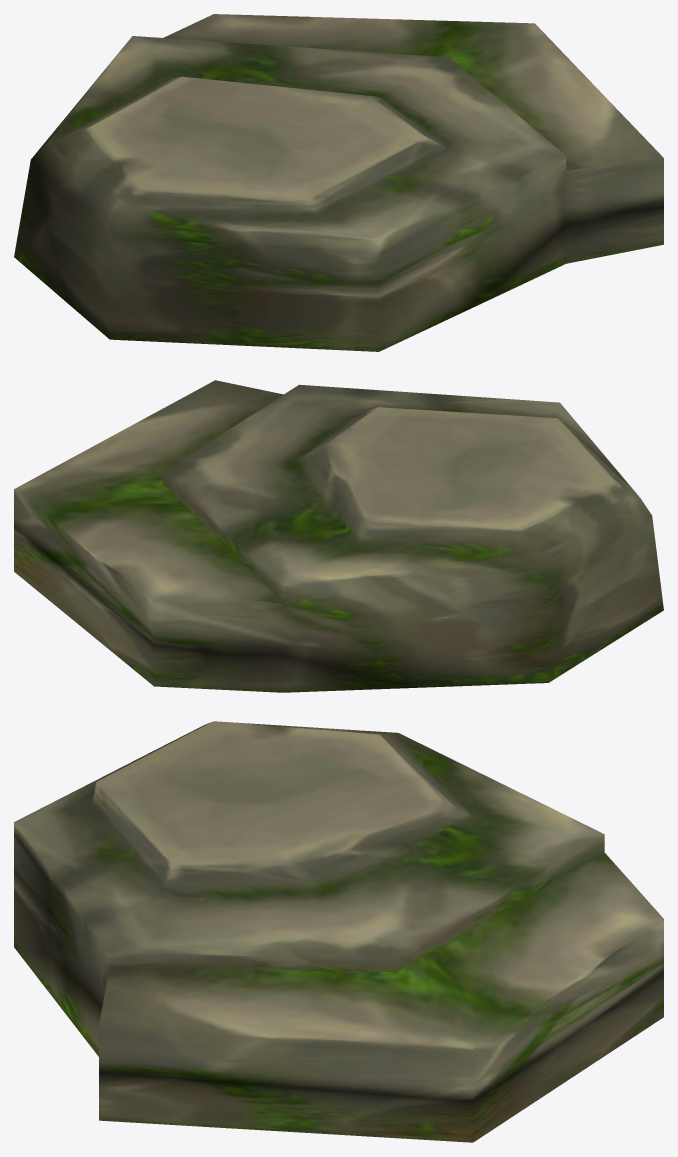
The model's file is RockFormation_4_5 (13).fbx.
3 renders of one model, top to bottom at view 1: azimuth 30°, elevation 25°; view 2: azimuth 150°, elevation 25°; view 3: azimuth 270°, elevation 25°, orthographic. The views are drawn at different scales.
Visible parts, largest first — view 1: RockFormation_4_5 (13); view 2: RockFormation_4_5 (13); view 3: RockFormation_4_5 (13).
Part boxes in pixels (x1,y1,x2,y2): RockFormation_4_5 (13): [14, 14, 663, 351]; RockFormation_4_5 (13): [14, 380, 663, 692]; RockFormation_4_5 (13): [14, 721, 663, 1142].
Bounding box in the file's own units: 1365 × 314 × 1263.
